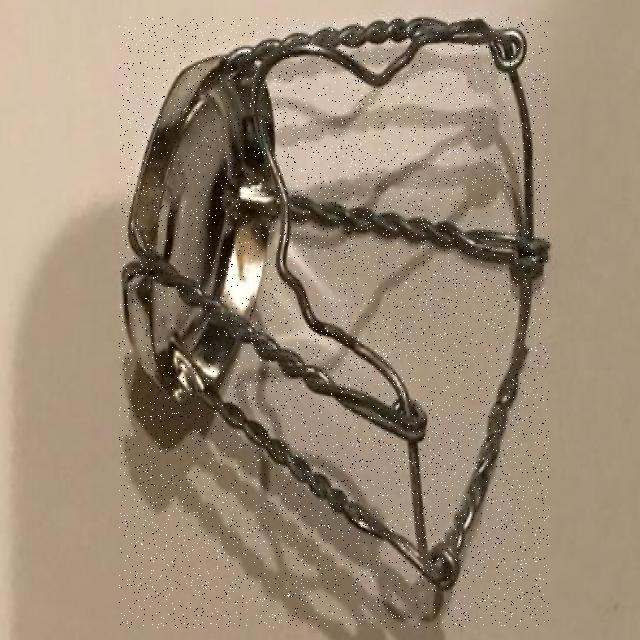metal: (120, 17, 549, 628)
